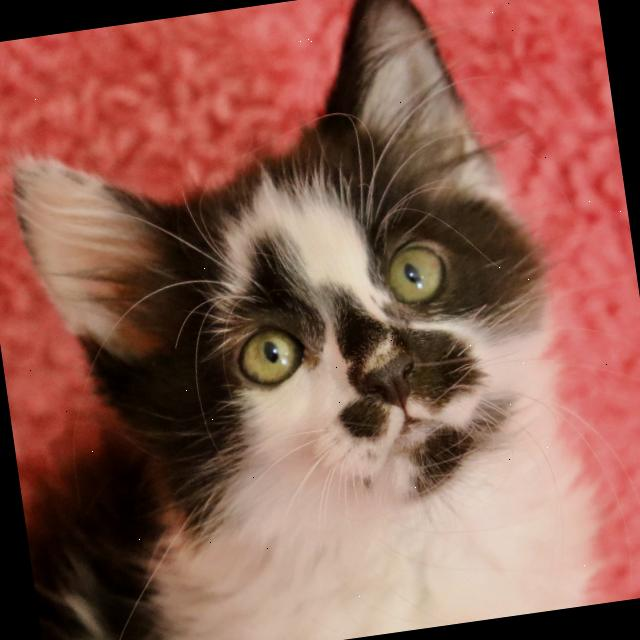maine_coon_cat: (0, 0, 627, 600)
